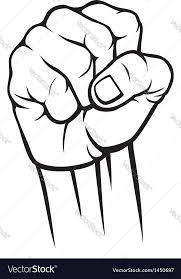fist: (16, 10, 152, 161)
